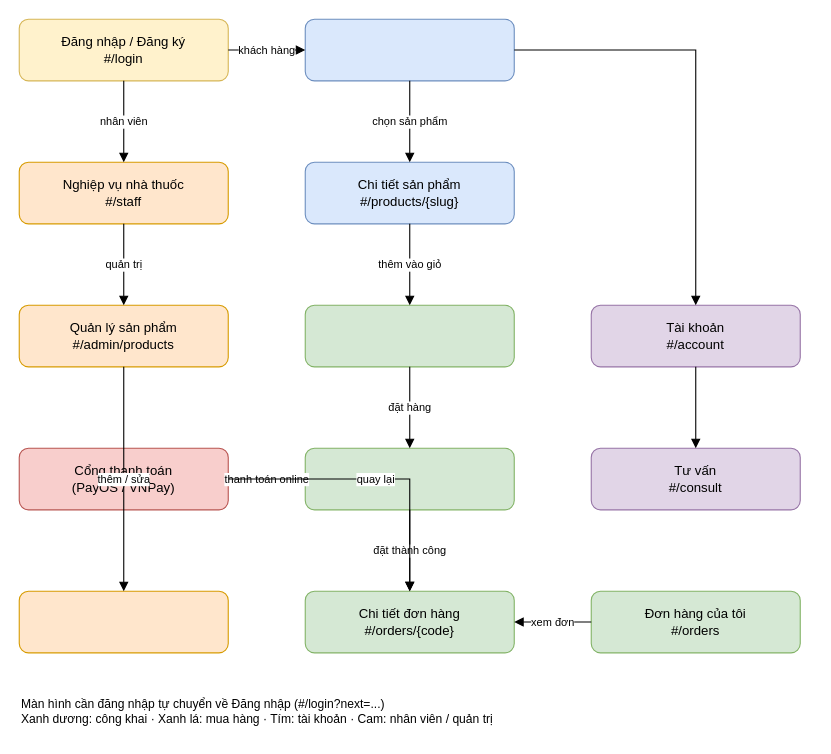
Some shapes in this 831 by 754 pixel diagram are drawn without their labels. The shapes that lost their labels are listed below. From the top down, each one's centre as x and y in pixels, then its label:
pixel 409 49: Danh sách sản phẩm #/
pixel 409 335: Giỏ hàng #/cart
pixel 409 478: Đặt hàng #/checkout
pixel 123 621: Thêm / sửa sản phẩm #/admin/products/{id}
